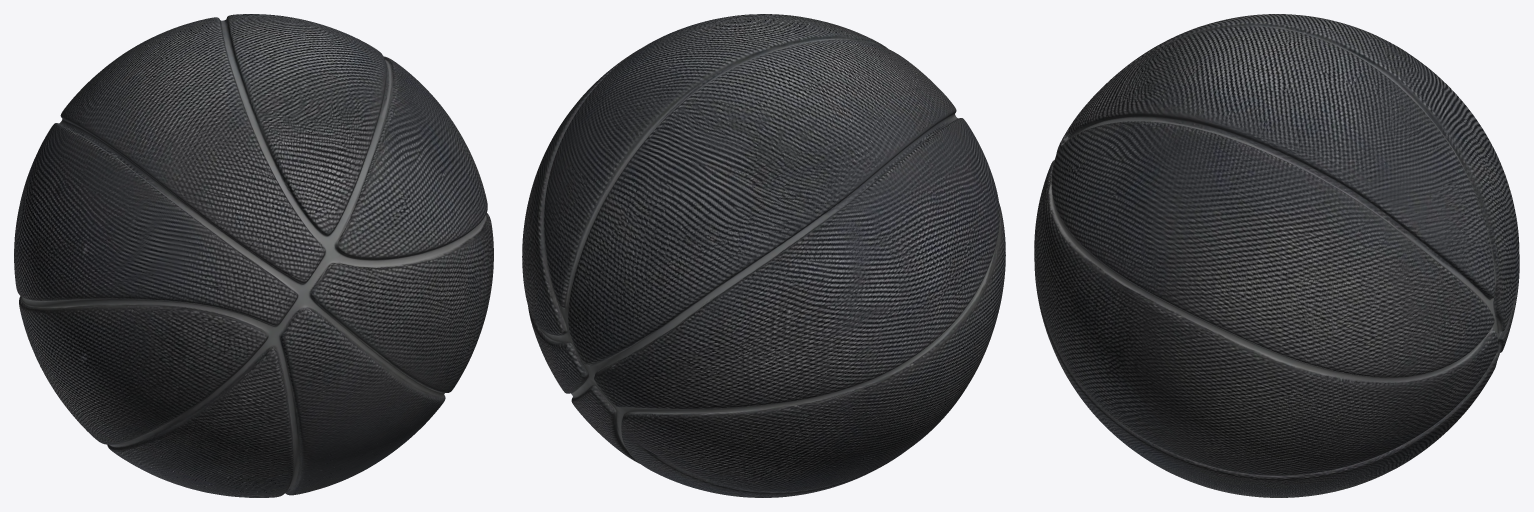
The model's file is basketball-nera.glb.
3 views of the same model, side by side, from view 1: azimuth 30°, elevation 25°; view 2: azimuth 150°, elevation 25°; view 3: azimuth 270°, elevation 25° (orthographic).
Visible parts, largest first — view 1: node_0; view 2: node_0; view 3: node_0.
Part boxes in pixels (x1=…): node_0: x1=14, y1=14, x2=493, y2=497; node_0: x1=522, y1=14, x2=1005, y2=497; node_0: x1=1034, y1=14, x2=1519, y2=497.
Size of the model in its own units: 1.18 by 1.19 by 1.19.
Materials: 1 (1 with a texture image).
